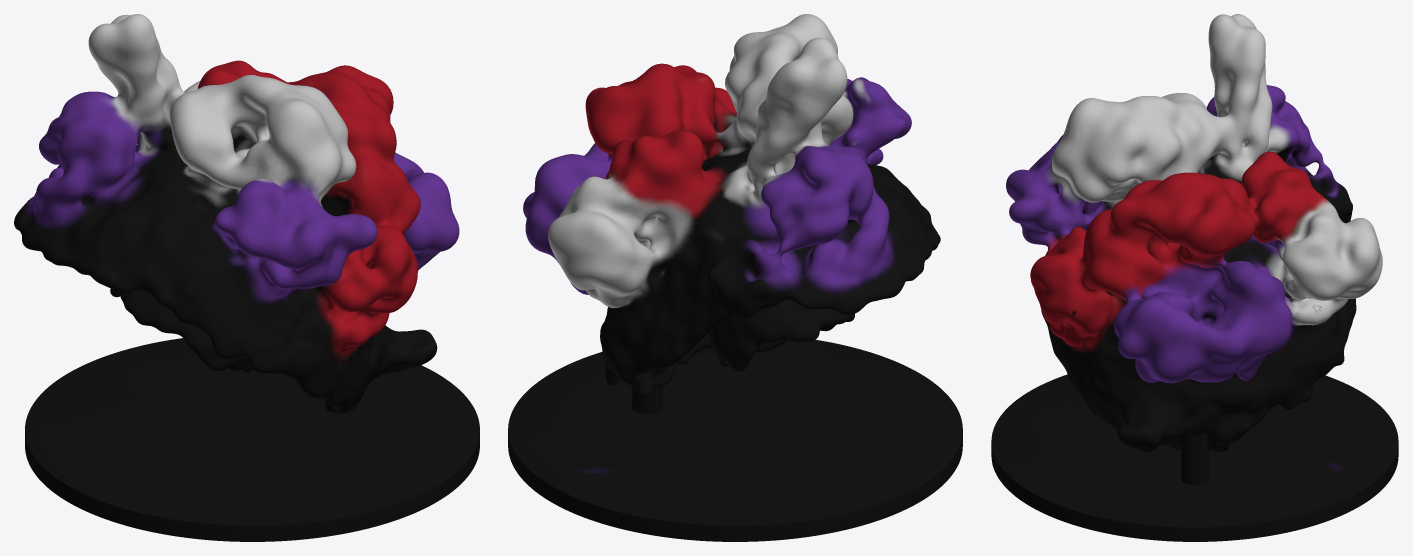
The model's file is lipo2.glb.
3 renders of one model, left to right at view 1: azimuth 30°, elevation 25°; view 2: azimuth 150°, elevation 25°; view 3: azimuth 270°, elevation 25°, orthographic. The views are drawn at different scales.
Visible parts, largest first — view 1: _Group5570; view 2: _Group5570; view 3: _Group5570.
Boxes of the visible parts, left/top/right/bottom form: _Group5570: left=14, top=14, right=479, bottom=541; _Group5570: left=508, top=14, right=962, bottom=541; _Group5570: left=991, top=14, right=1398, bottom=541.
Size of the model in its own units: 159 by 172 by 159.
Materials: 1 (1 with a texture image).
